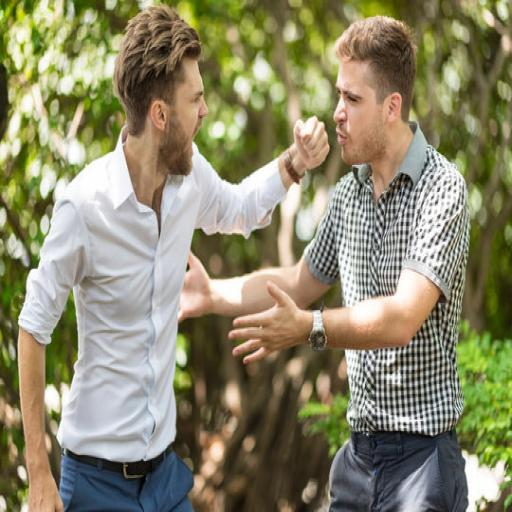fight: (19, 0, 476, 487)
